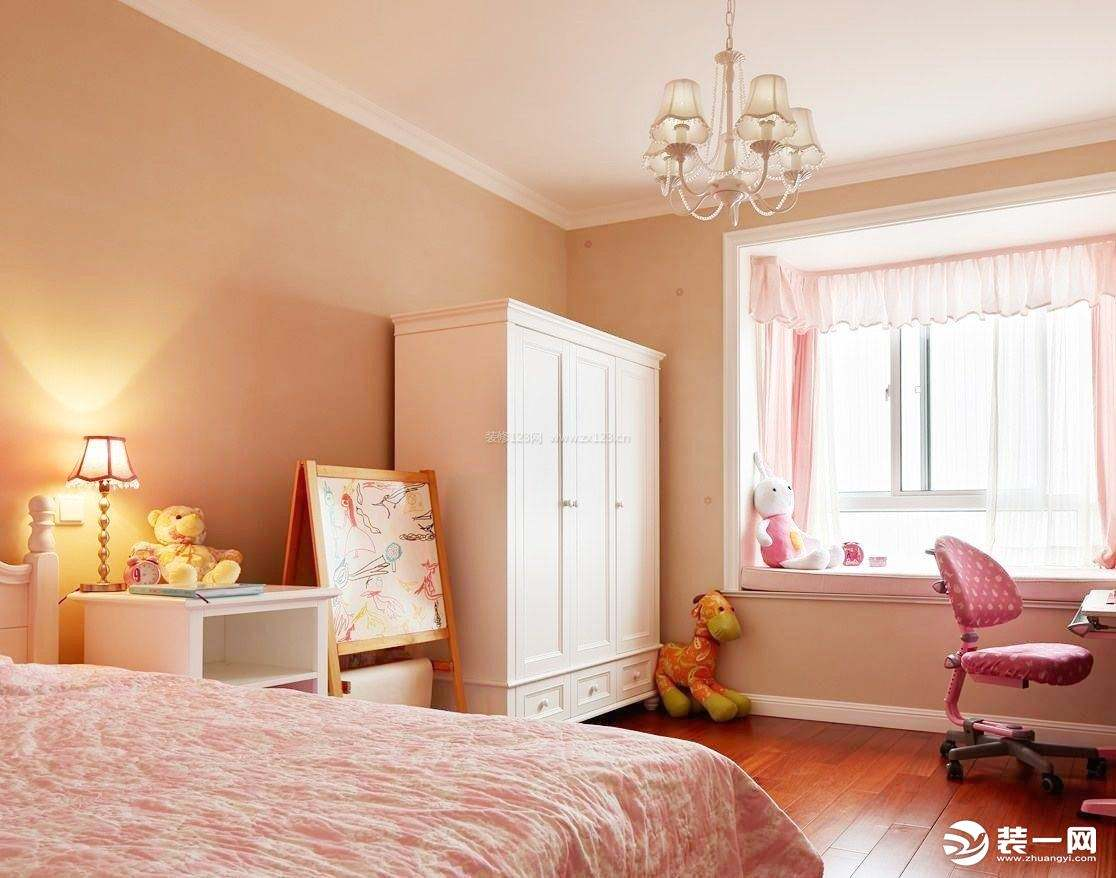床: (0, 686, 750, 877)
灯: (640, 18, 820, 229), (63, 423, 148, 602)
